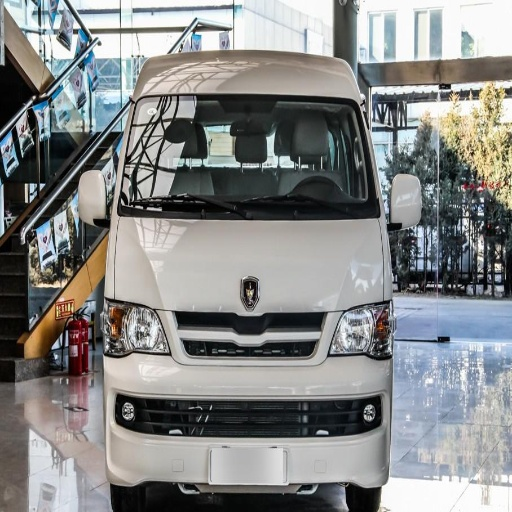front_bumper: (103, 269, 391, 494)
front_right_light: (99, 298, 170, 355)
hood: (113, 216, 383, 310)
left_mirror: (388, 175, 422, 228)
